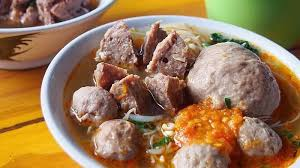Bakso besar: (93, 19, 187, 115), (188, 42, 281, 118)
Bakso sedang: (94, 119, 144, 162), (72, 86, 116, 126), (236, 118, 283, 155), (169, 142, 234, 168)
